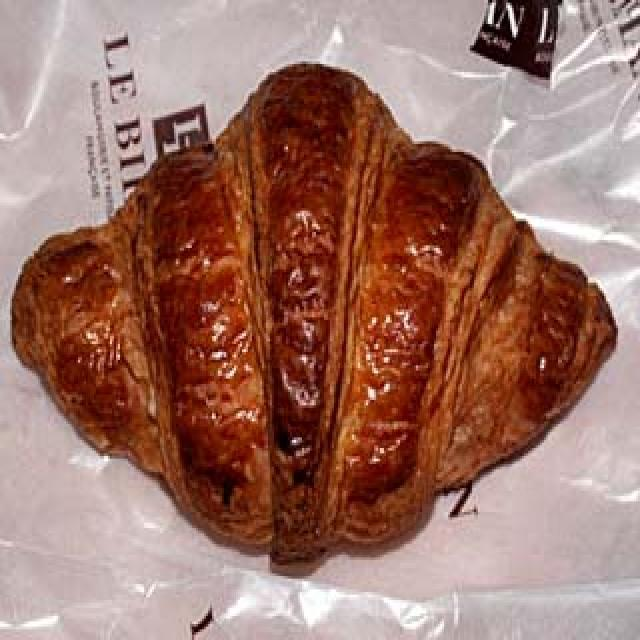Croissant: (2, 40, 630, 583)
